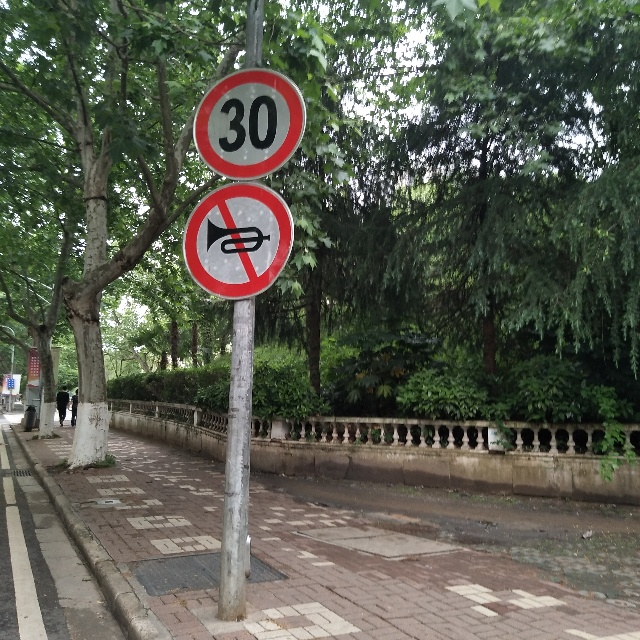nohonk: (183, 180, 291, 300)
